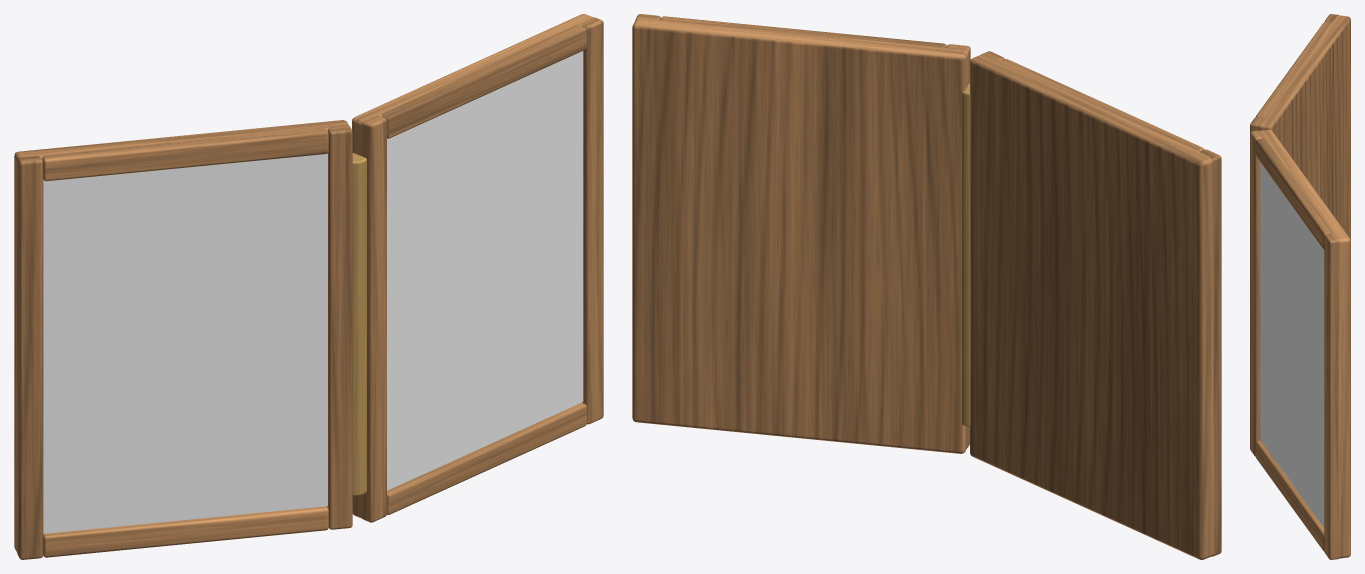
Rendered from preview.glb.
3 renders of one model, left to right at view 1: azimuth 30°, elevation 25°; view 2: azimuth 150°, elevation 25°; view 3: azimuth 270°, elevation 25°, orthographic. The views are drawn at different scales.
Visible parts, largest first — view 1: Diptych; view 2: Diptych; view 3: Diptych.
Part boxes in pixels (left/top/right/bottom): Diptych: left=14, top=14, right=603, bottom=559; Diptych: left=632, top=14, right=1221, bottom=559; Diptych: left=1250, top=14, right=1350, bottom=559.
Size of the model in its own units: 0.2482 by 0.162 by 0.0464.
Materials: 4 (2 with a texture image).
